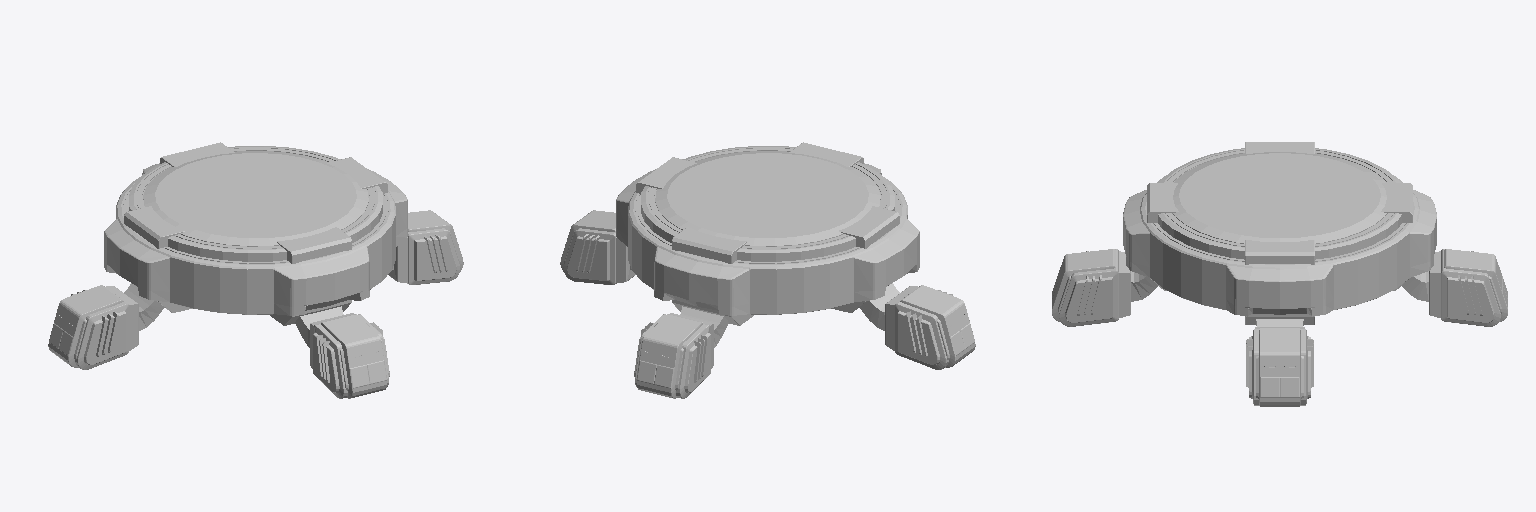
The model's file is Winners_Platform.obj.
3 renders of one model, left to right at view 1: azimuth 30°, elevation 25°; view 2: azimuth 150°, elevation 25°; view 3: azimuth 270°, elevation 25°, orthographic.
Parts seen in each view (by area): view 1: Winners_Platform_Cylinder.001; view 2: Winners_Platform_Cylinder.001; view 3: Winners_Platform_Cylinder.001.
Part boxes in pixels (x1,y1,x2,y2): Winners_Platform_Cylinder.001: (48, 142, 463, 398); Winners_Platform_Cylinder.001: (560, 142, 975, 398); Winners_Platform_Cylinder.001: (1052, 142, 1507, 406).
Bounding box in the file's own units: 14.56 × 4.24 × 14.56.